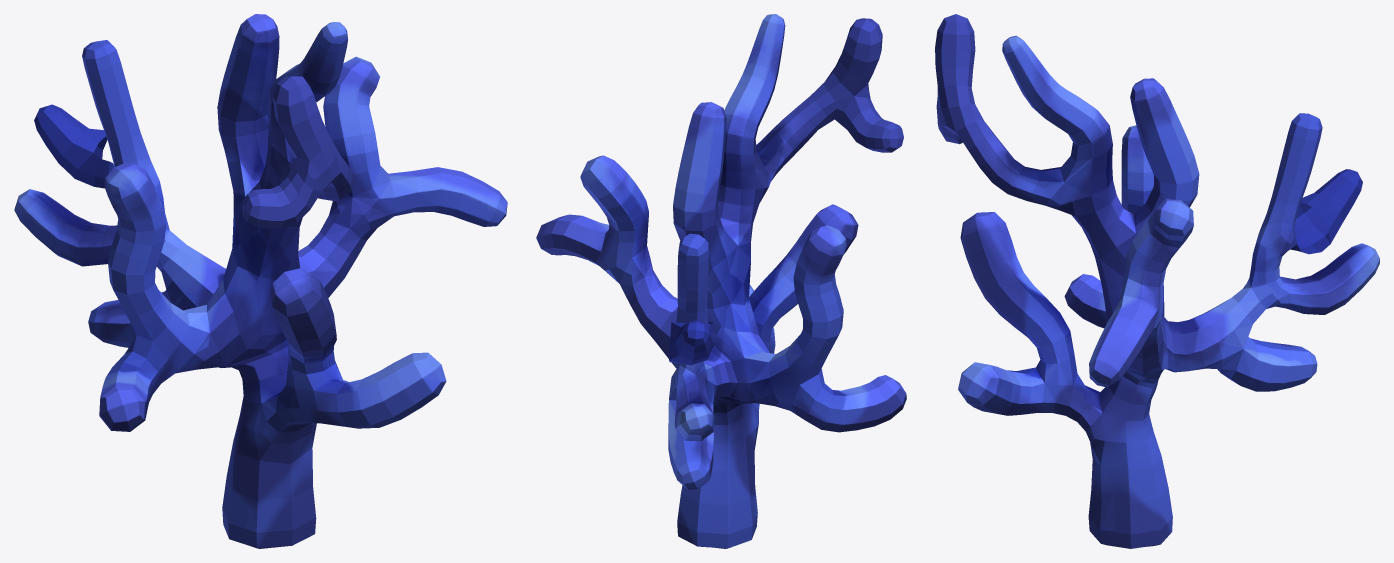
The model's file is coral5.glb.
3 views of the same model, side by side, from view 1: azimuth 30°, elevation 25°; view 2: azimuth 150°, elevation 25°; view 3: azimuth 270°, elevation 25° (orthographic). The views are drawn at different scales.
Parts seen in each view (by area): view 1: Plane.011; view 2: Plane.011; view 3: Plane.011.
Part boxes in pixels (<box>): Plane.011: <box>14,14,507,548</box>; Plane.011: <box>536,14,906,548</box>; Plane.011: <box>935,14,1379,548</box>.
Bounding box in the file's own units: 0.7408 × 0.9571 × 0.7708.
1 material, 1 textured.
